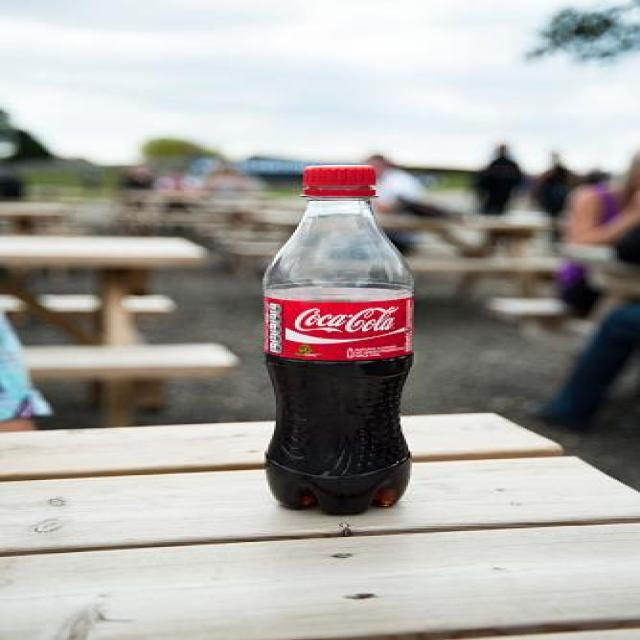coca-cola: (245, 155, 426, 520)
